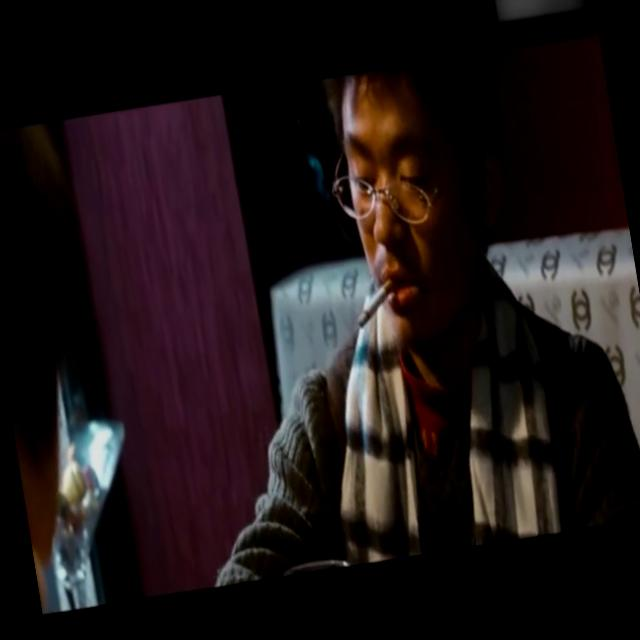smoke: (355, 274, 401, 332)
